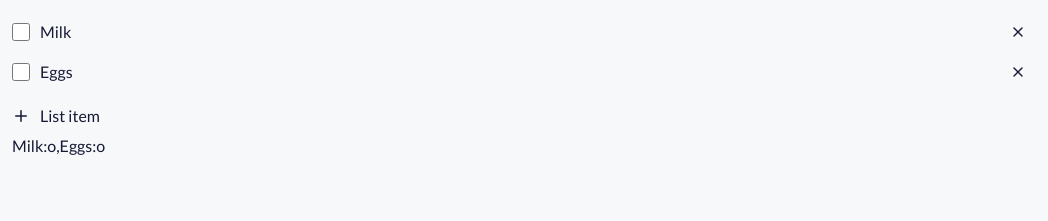
Test case: ChecklistEditor › moves ticked items to the completed section and back to the end
The width and height of the screenshot is (1048, 221).
Click the checkbox named "Mark “Milk” done". click: (21, 32)
box: top-left (12, 23), bottom-right (30, 41)
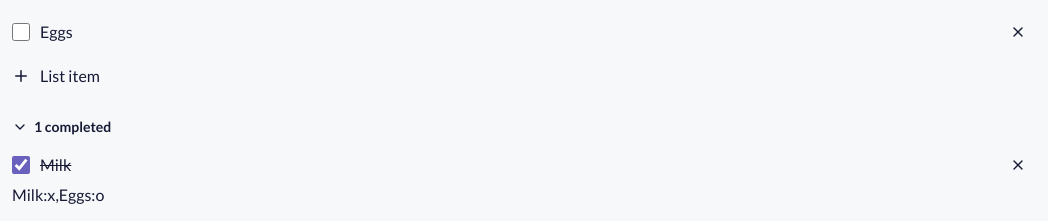
Check: the text with test id "state" reads "Milk:x,Eggs:o", box top-left (12, 185), bottom-right (104, 204)
Check: the button "1 completed" is shown, box top-left (12, 112), bottom-right (119, 141)
Click the checkbox named "Mark “Milk” not done". click: (21, 165)
box: top-left (12, 156), bottom-right (30, 174)
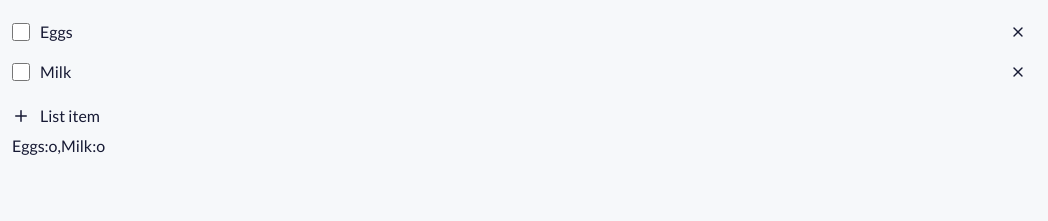
Check: the text with test id "state" reads "Eggs:o,Milk:o", box top-left (12, 136), bottom-right (105, 155)
